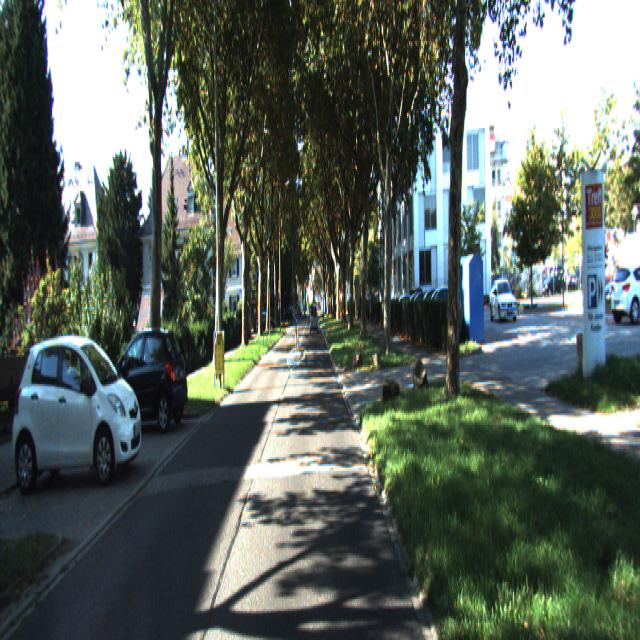Car: (10, 326, 144, 486), (98, 326, 188, 435), (487, 274, 516, 322)
